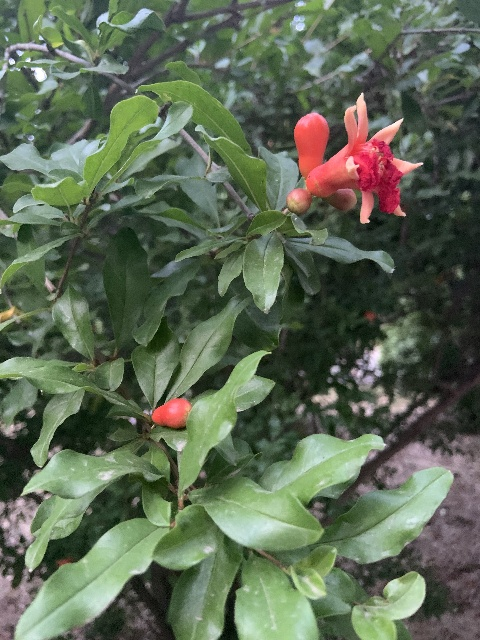bud: (293, 112, 329, 173), (152, 397, 192, 429), (323, 188, 356, 212), (285, 188, 312, 214)
flower: (306, 93, 422, 223)
